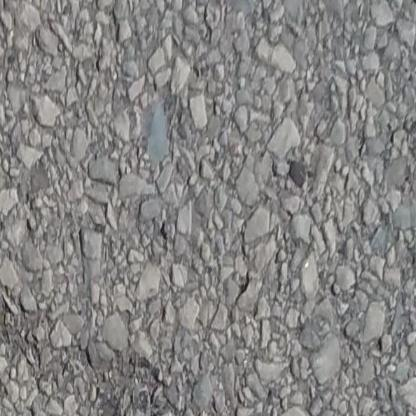Cracks: (0, 274, 177, 416)
